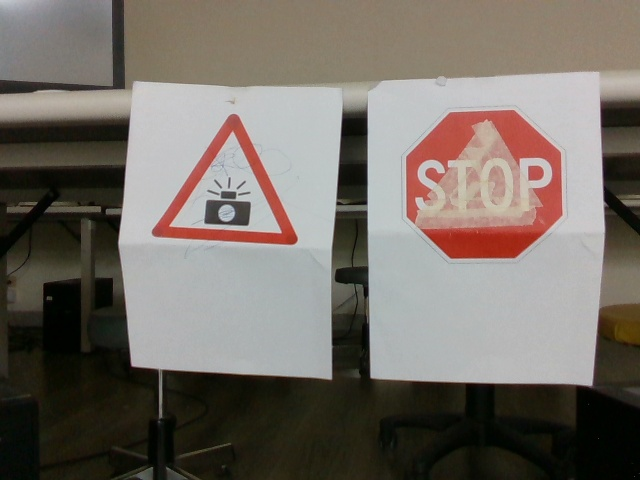camera: (156, 116, 299, 248)
stop: (414, 107, 561, 264)
